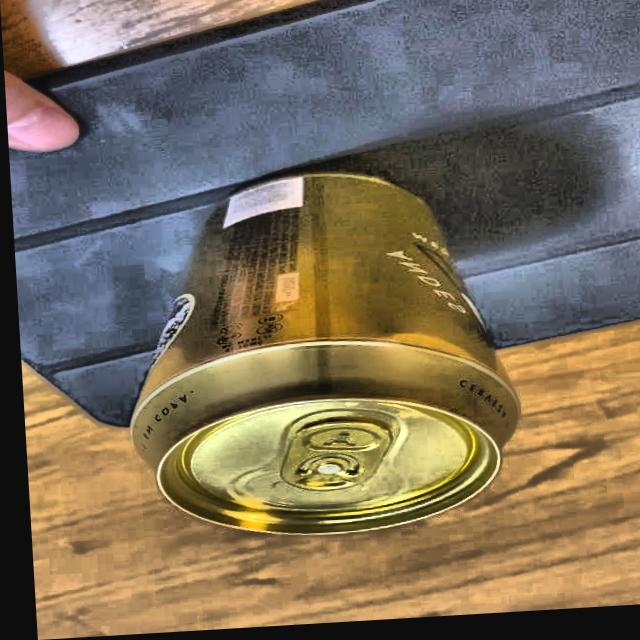can: (110, 158, 522, 551)
